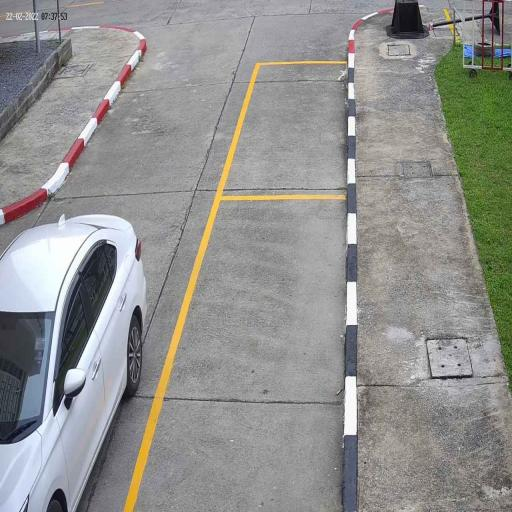car: (0, 214, 147, 512)
